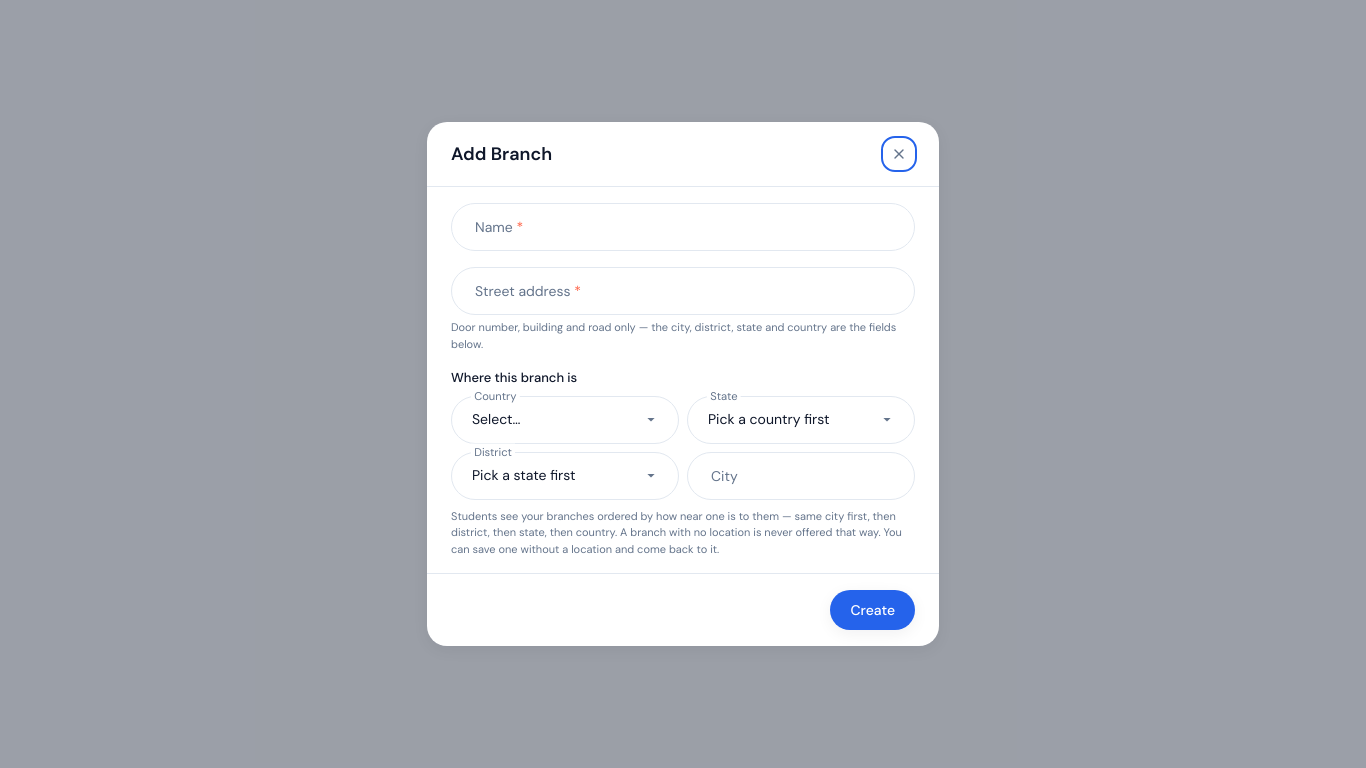
the branch form: a district is required in India › refuses a country with no state, which the server refuses too
Type "Kochi Office" into the field labelled "Name *" at (683, 227), box [451,203,915,251]
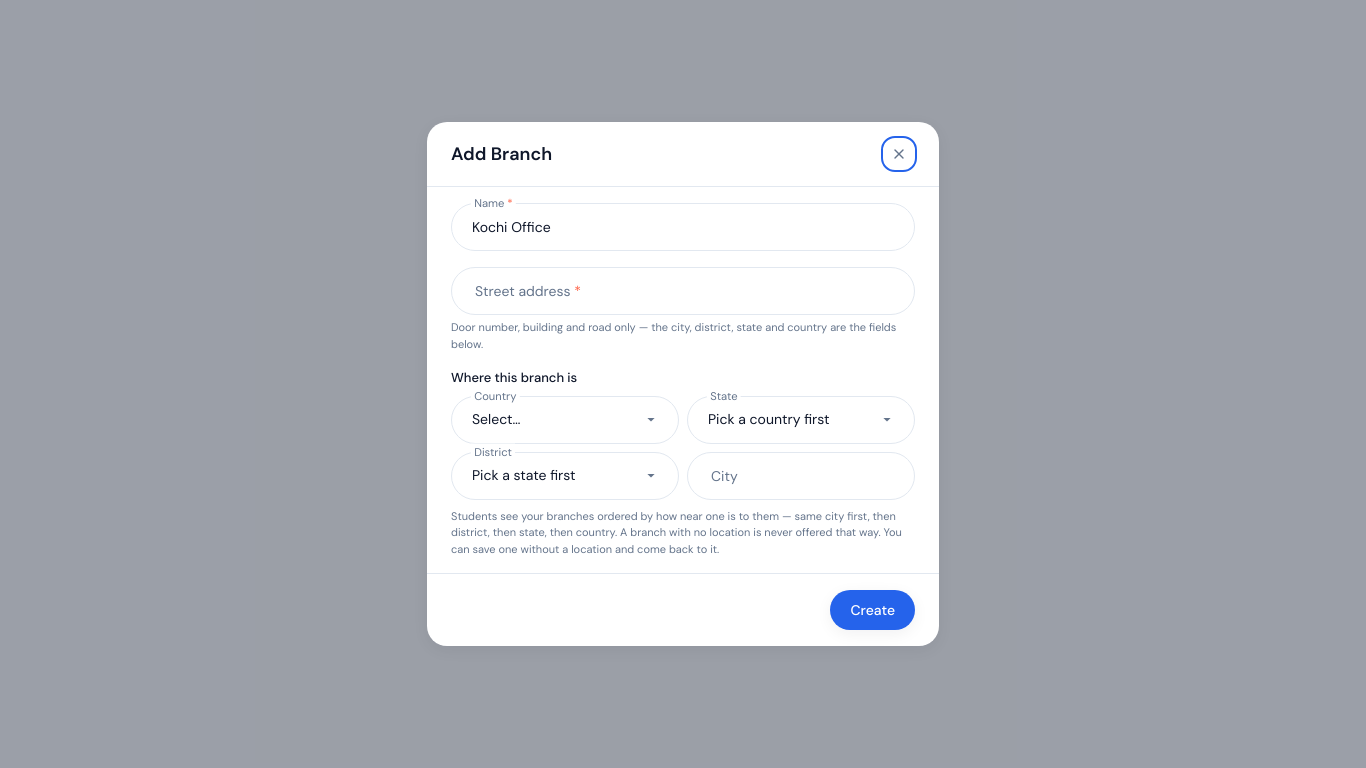
Type "2nd Floor, MG Road" into the field labelled "Street address *" at (683, 291), box [451,267,915,315]
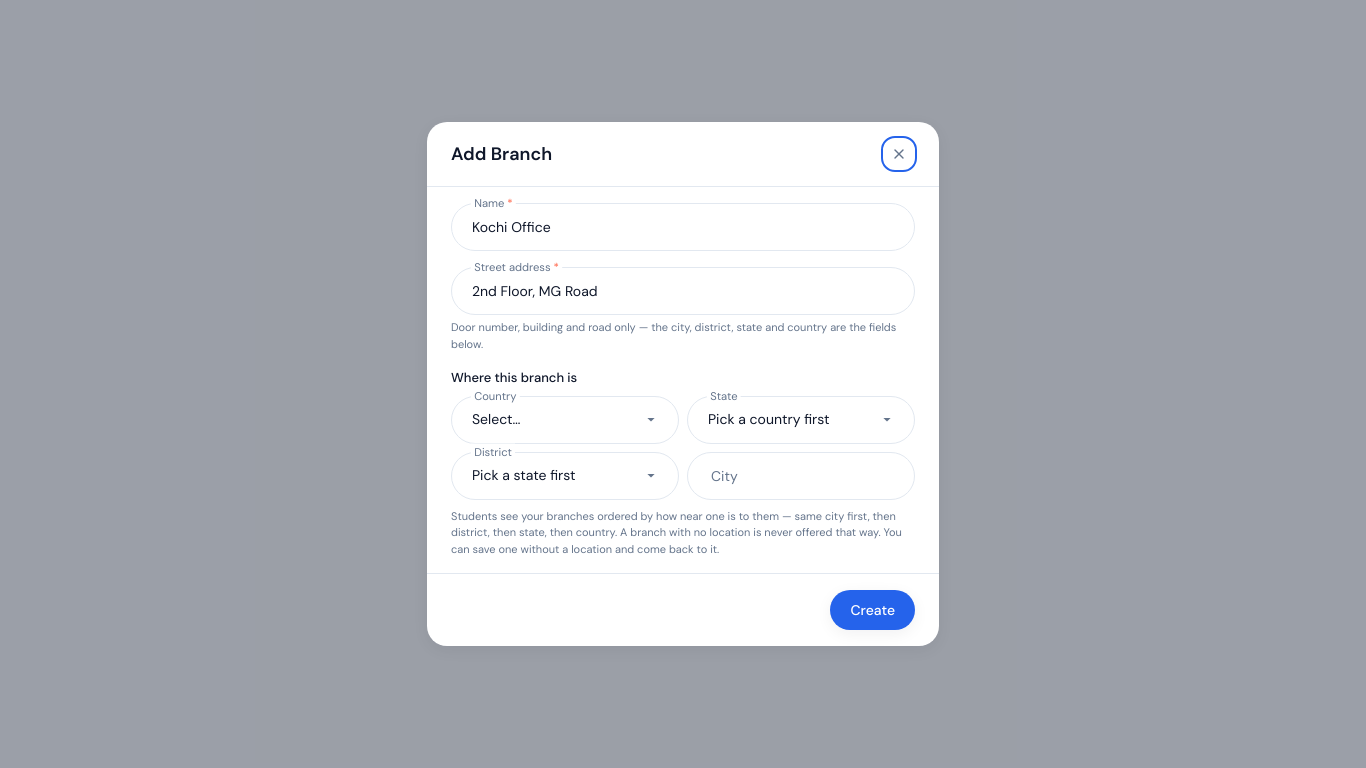
Select "Canada" in the dropdown labelled "Country" at (565, 420), box [451,396,679,444]
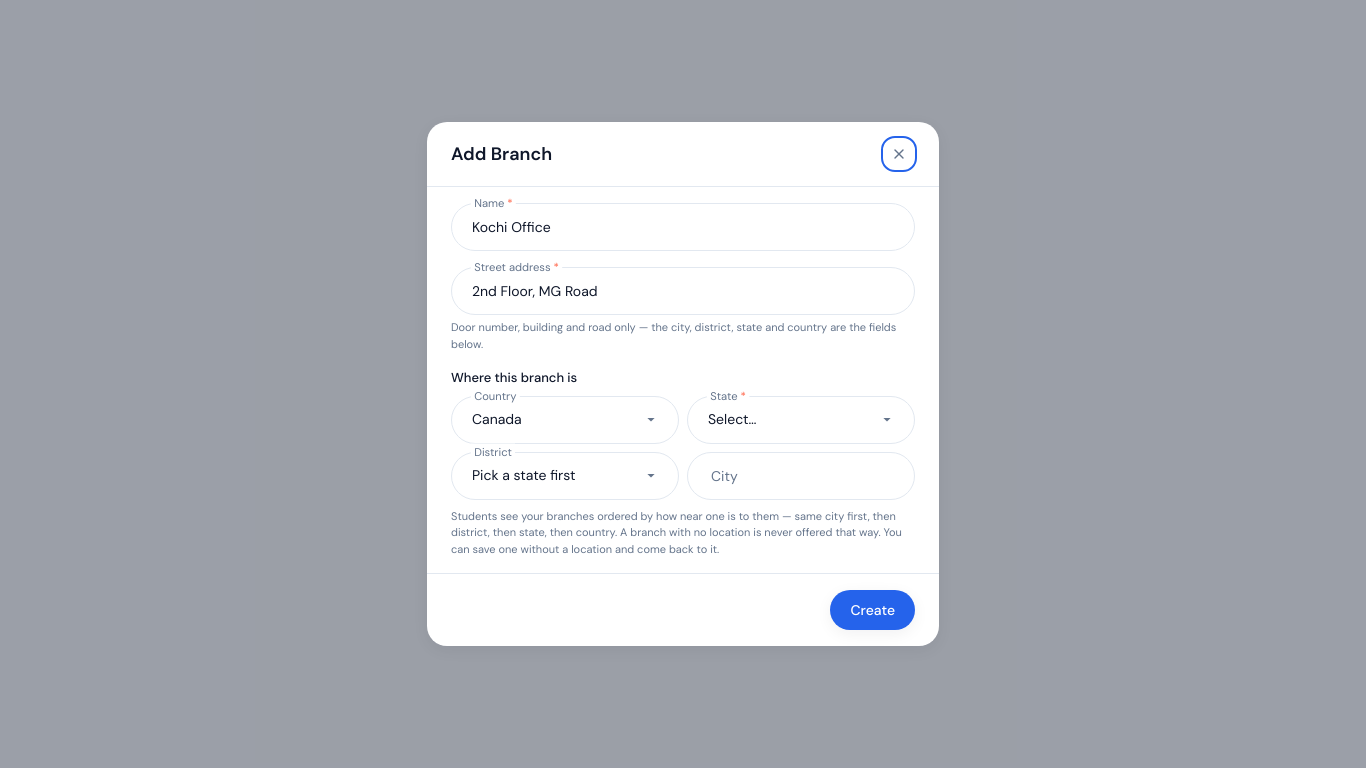
Click the button "Create" at (873, 610), box [830,590,915,630]
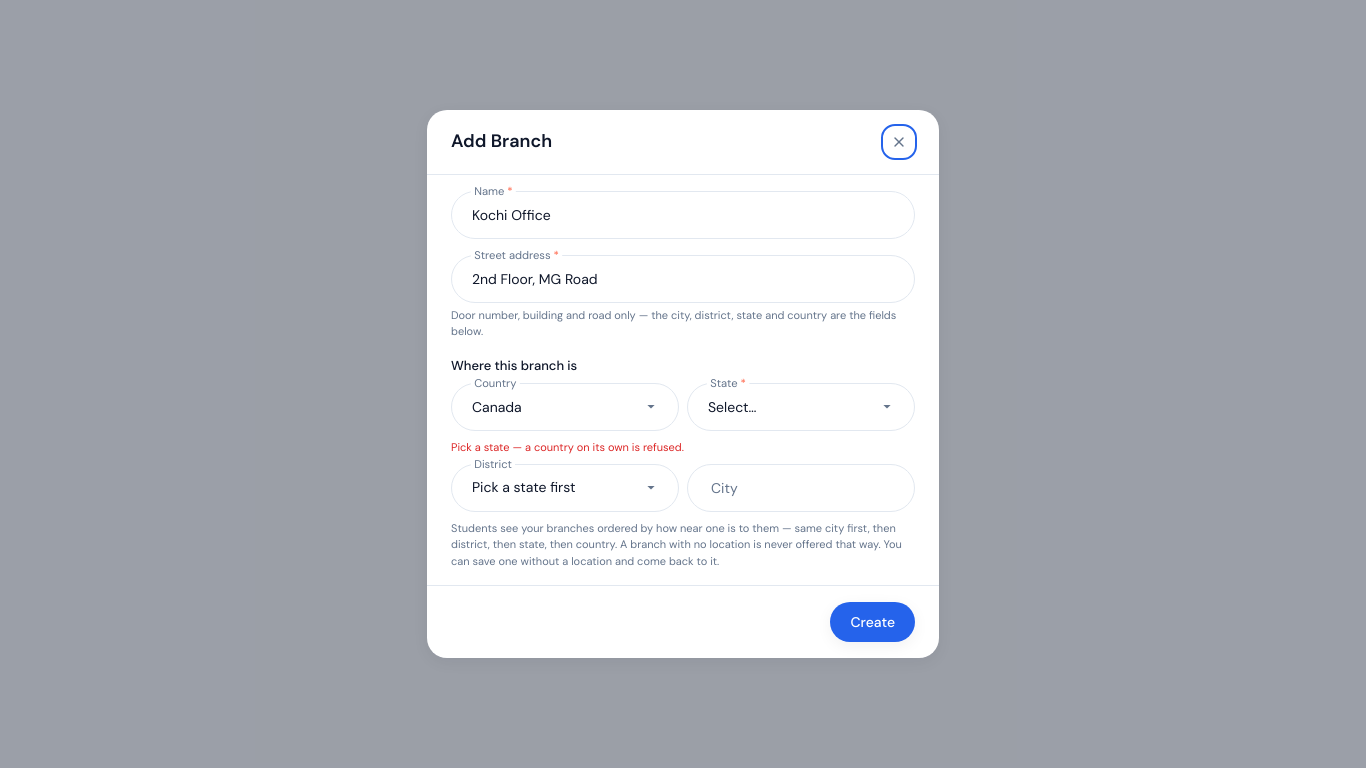
Result: the text "Pick a state — a country on its own is refused." is shown at [451,440,684,454]
